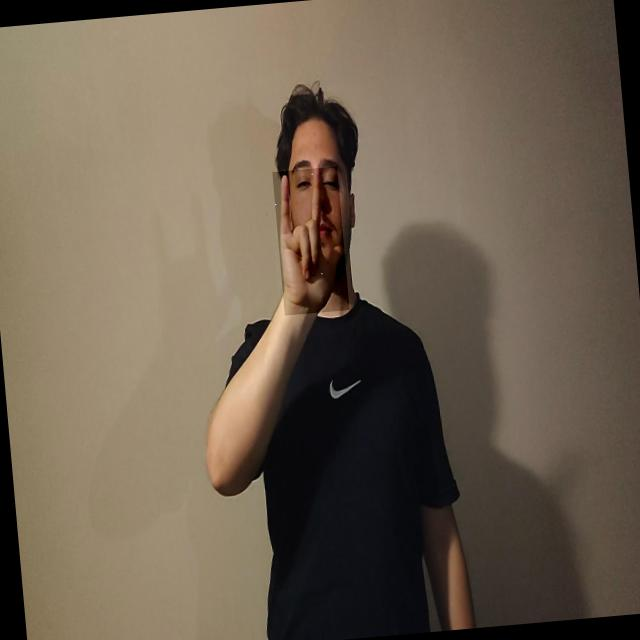iloveyou: (272, 166, 349, 315)
